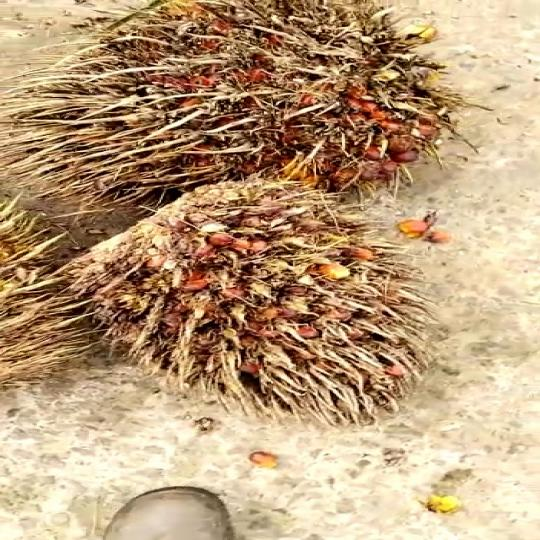terlalu masak: (44, 172, 447, 436), (0, 0, 457, 203)
